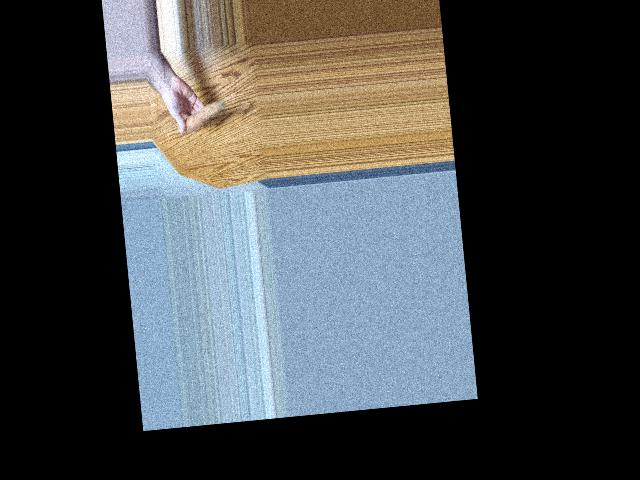sweet_potato: (174, 95, 229, 135)
